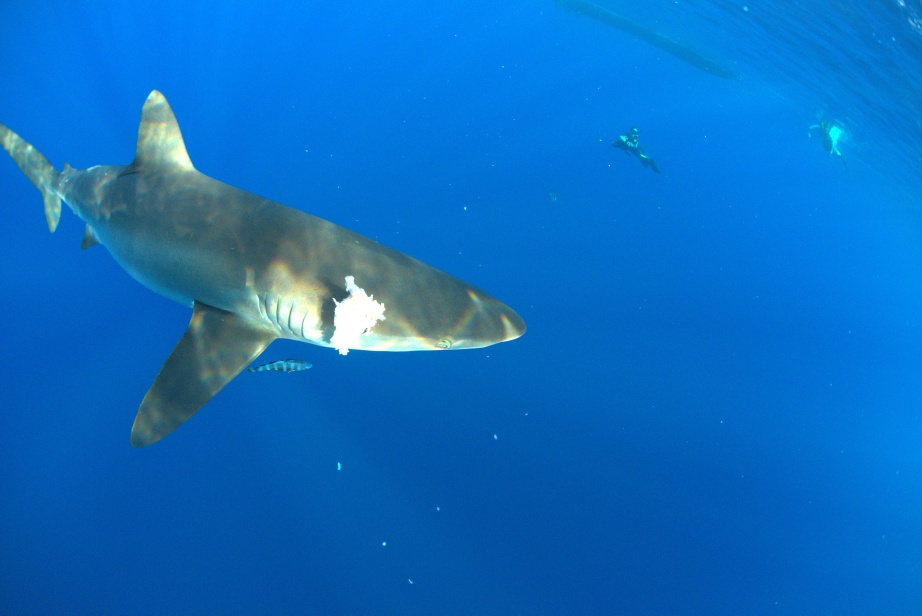Sedoso: (1, 82, 532, 466)
